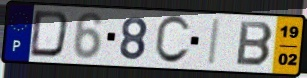6: (70, 10, 106, 62)
8: (120, 16, 149, 61)
B: (234, 19, 276, 68)
C: (152, 14, 193, 66)
D: (27, 9, 72, 60)
I: (206, 18, 223, 67)
